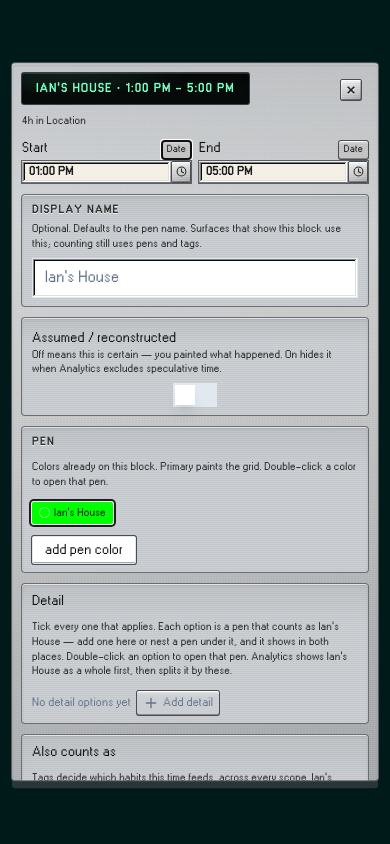
Test: Also happening › waits for unsaved times to be saved before attaching
Replace the text in the dropdown labelled "Start" with "14:00": [96, 172] box [23,162,170,182]
(page scrolled)
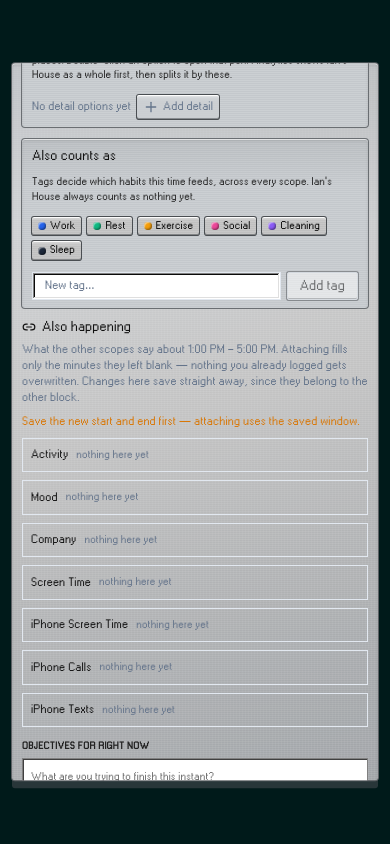
Expected: the text "Save the new start and end first" is shown, [22,416,360,427]
